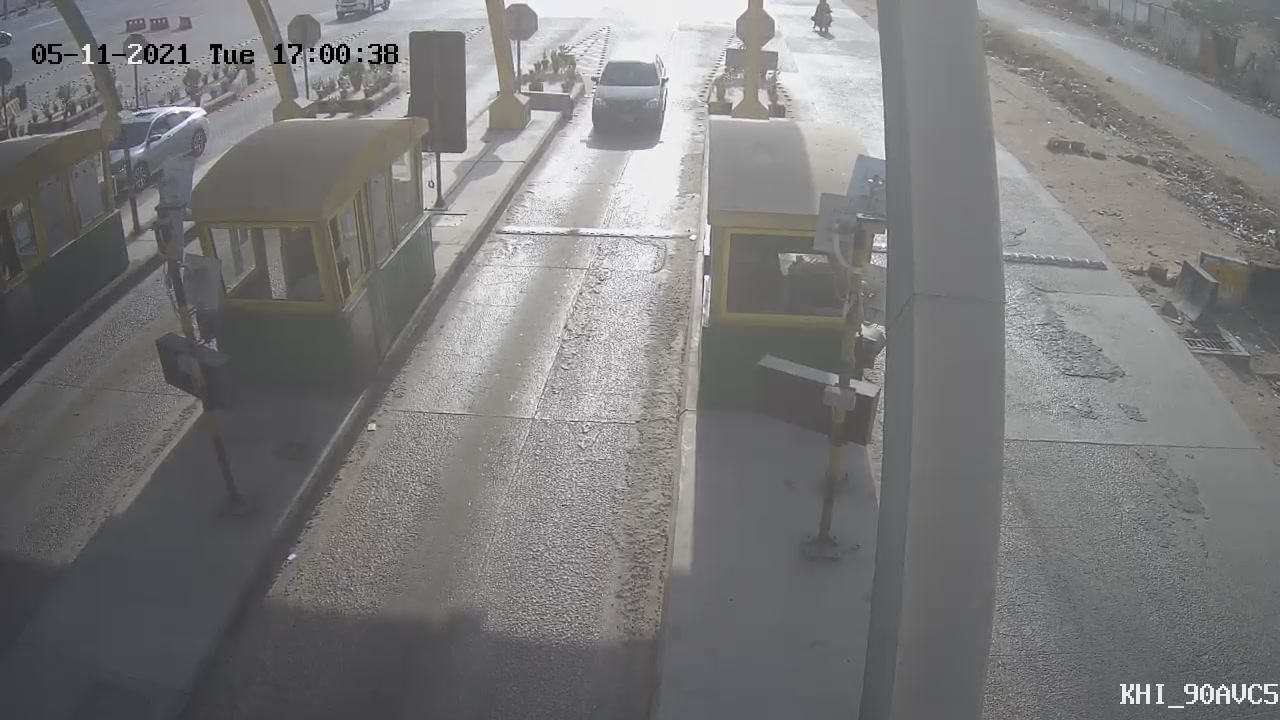F1: (573, 39, 686, 155)
